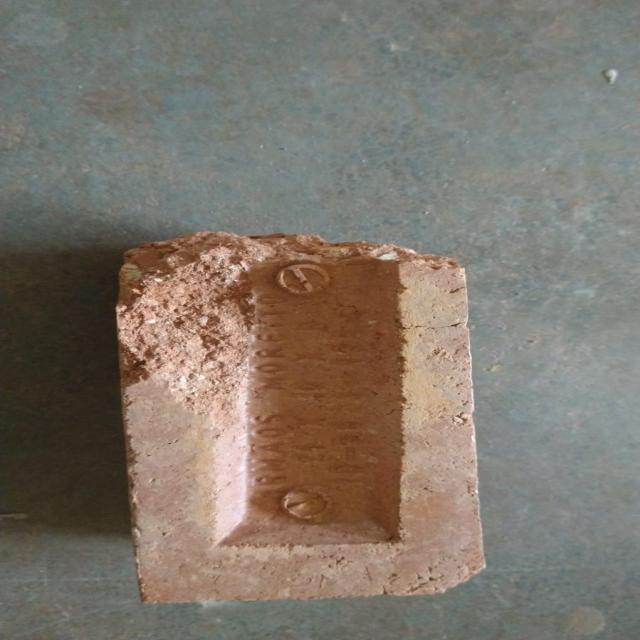bricks_ruin: (110, 231, 489, 603)
